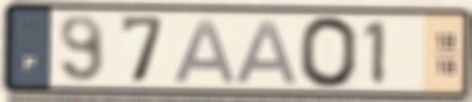1: (360, 19, 389, 87)
7: (117, 13, 170, 86)
9: (57, 13, 108, 85)
A: (231, 17, 302, 87), (170, 16, 241, 86)
O: (296, 13, 361, 91)
